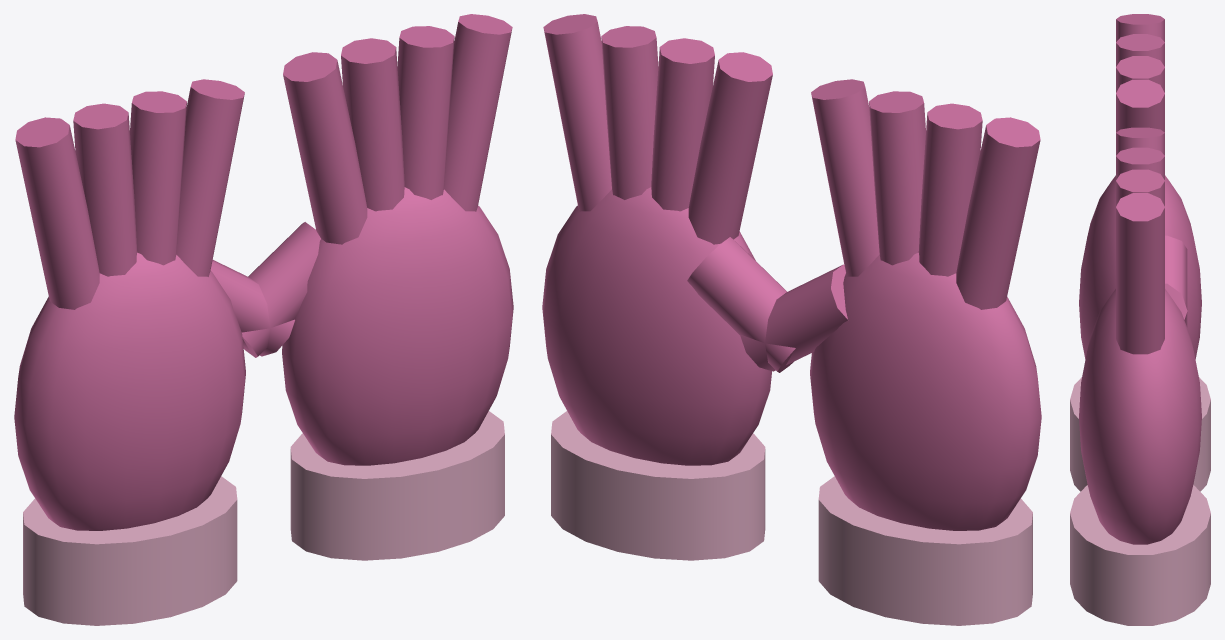
Rendered from VM-CAB-SH41275316.glb.
3 views of the same model, side by side, from view 1: azimuth 30°, elevation 25°; view 2: azimuth 150°, elevation 25°; view 3: azimuth 270°, elevation 25° (orthographic). The views are drawn at different scales.
Parts seen in each view (by area): view 1: Guantes de Punto sin Dedos; view 2: Guantes de Punto sin Dedos; view 3: Guantes de Punto sin Dedos.
Boxes of the visible parts, <box> form: Guantes de Punto sin Dedos: <box>14,14,513,625</box>; Guantes de Punto sin Dedos: <box>542,14,1041,625</box>; Guantes de Punto sin Dedos: <box>1070,14,1210,625</box>.
Bounding box in the file's own units: 0.232 × 0.2186 × 0.0667.
